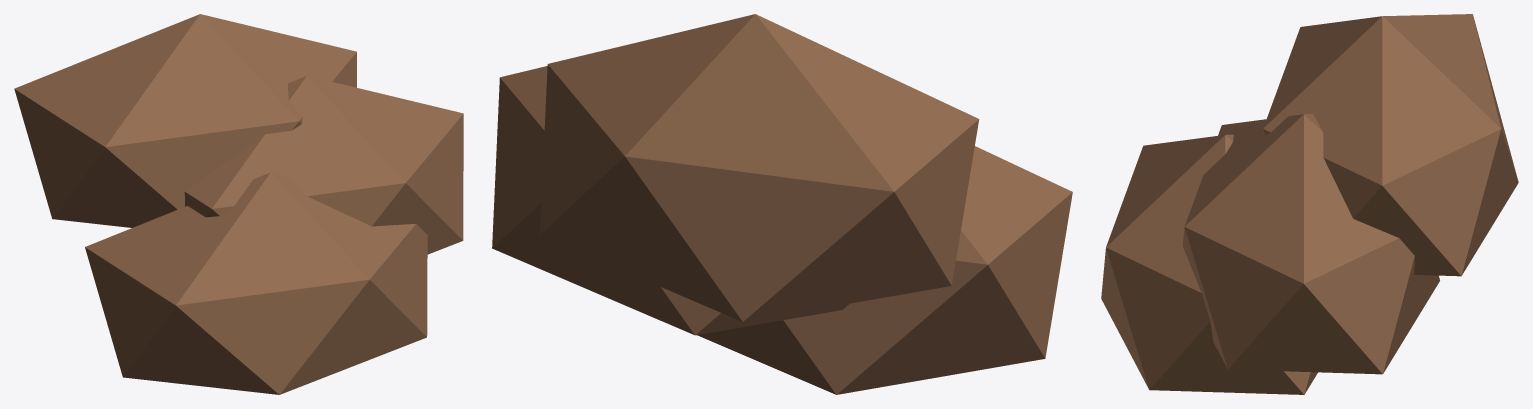
File: w3d_item_clay_m.glb
3 views of the same model, side by side, from view 1: azimuth 30°, elevation 25°; view 2: azimuth 150°, elevation 25°; view 3: azimuth 270°, elevation 25° (orthographic). The views are drawn at different scales.
Parts seen in each view (by area): view 1: item_007_clay_m; view 2: item_007_clay_m; view 3: item_007_clay_m.
Boxes of the visible parts, x1,y1,x2,y2 form: item_007_clay_m: (14, 14, 463, 394); item_007_clay_m: (492, 14, 1072, 394); item_007_clay_m: (1101, 14, 1518, 394).
Bounding box in the file's own units: 0.3691 × 0.3061 × 0.3189.
